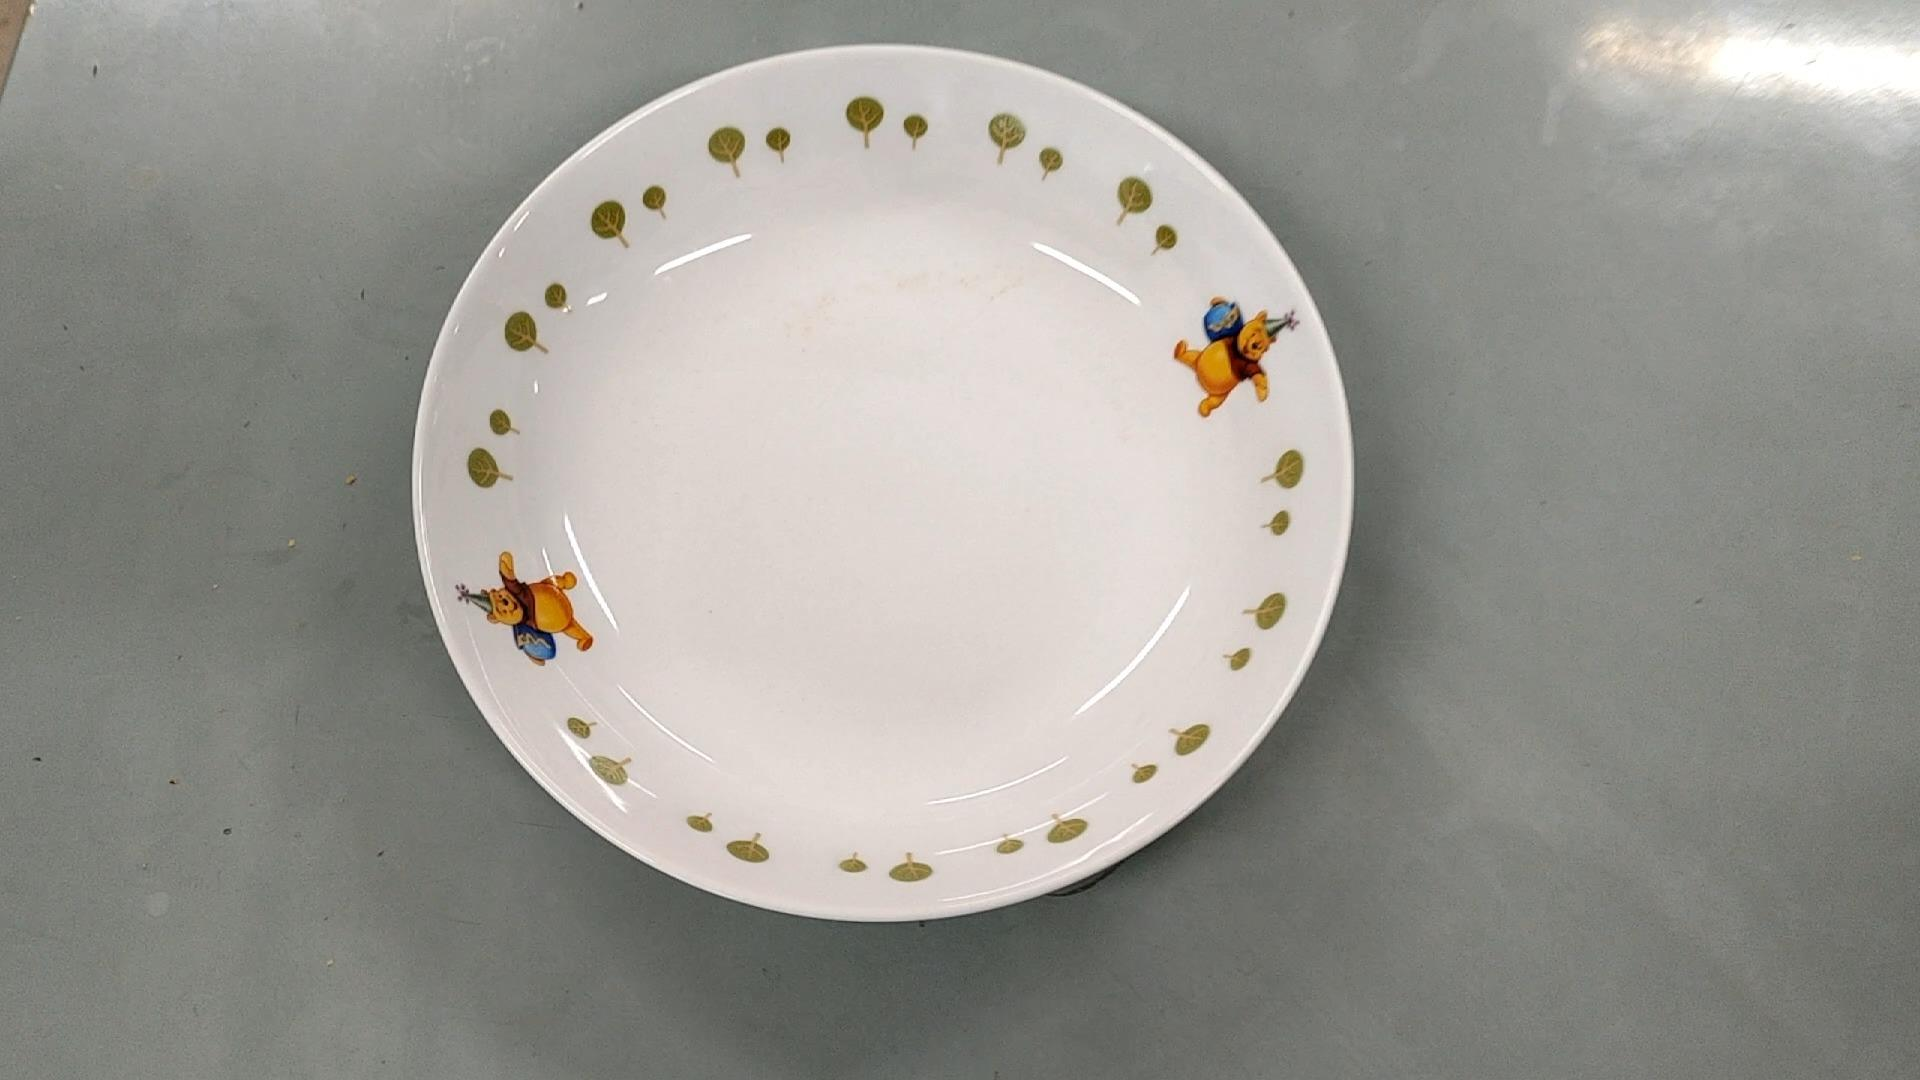plate: (406, 53, 1360, 919)
